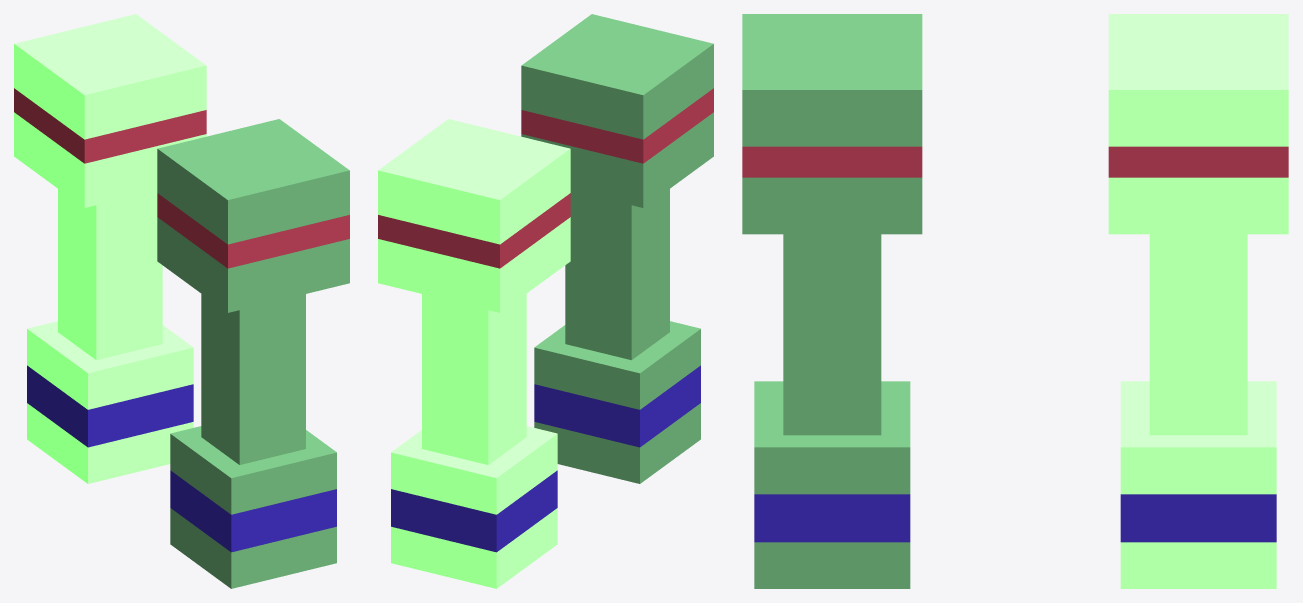
Rendered from Prueba 2.gltf.
3 views of the same model, side by side, from view 1: azimuth 30°, elevation 25°; view 2: azimuth 150°, elevation 25°; view 3: azimuth 270°, elevation 25° (orthographic). The views are drawn at different scales.
Parts seen in each view (by area): view 1: Cube, Cube.001; view 2: Cube.001, Cube; view 3: Cube, Cube.001.
Part boxes in pixels (bbox=[...]): Cube: bbox=[157, 119, 349, 588]; Cube.001: bbox=[14, 14, 206, 483]; Cube.001: bbox=[378, 119, 570, 588]; Cube: bbox=[521, 14, 713, 483]; Cube: bbox=[742, 14, 922, 588]; Cube.001: bbox=[1108, 14, 1288, 588].
Bounding box in the file's own units: 0.1871 × 0.5779 × 0.5679.
